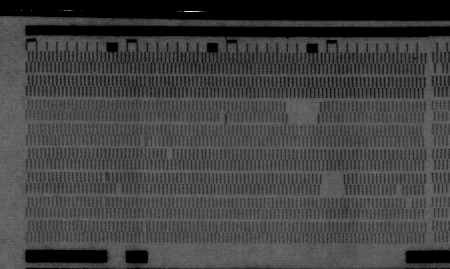Broken hole: (283, 99, 323, 126), (318, 173, 347, 196), (163, 147, 176, 160), (113, 182, 124, 194), (403, 198, 414, 210), (217, 111, 227, 124), (395, 186, 405, 197), (435, 64, 444, 76)
Oblique printing: (99, 172, 113, 185), (138, 135, 150, 147)
